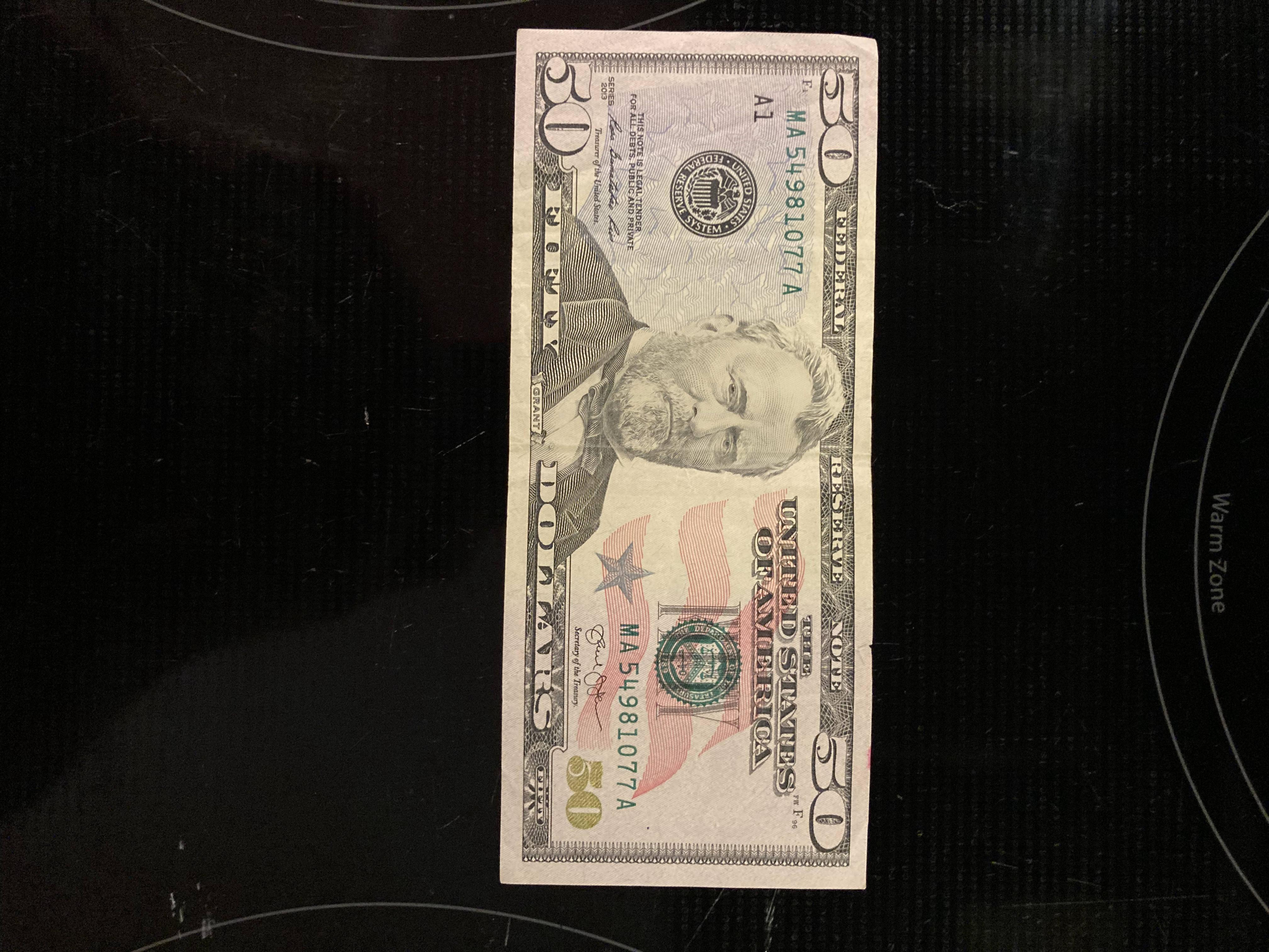fifty-front: (498, 31, 887, 888)
